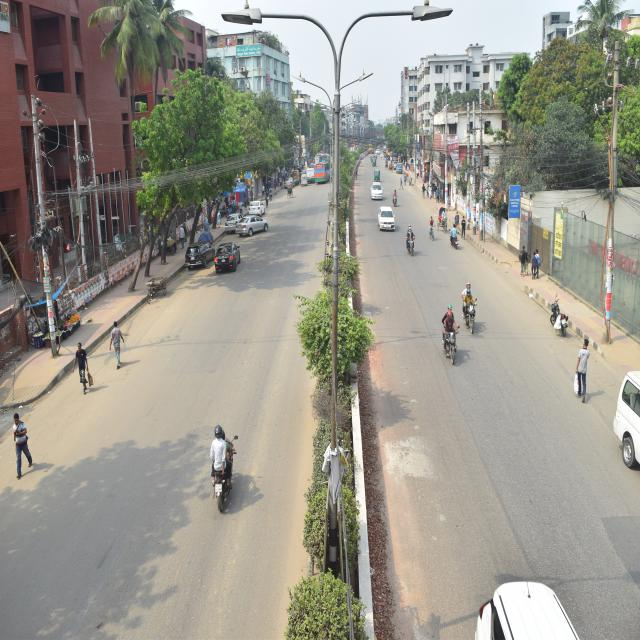bus: (312, 155, 326, 192)
car: (181, 233, 216, 272), (217, 233, 241, 284), (364, 176, 389, 209), (375, 202, 399, 236), (243, 210, 267, 242), (221, 198, 239, 232)
motorbike: (200, 412, 236, 514), (460, 280, 485, 344), (438, 302, 462, 365), (550, 294, 570, 344), (445, 224, 465, 255), (408, 228, 422, 262), (387, 184, 401, 214)
